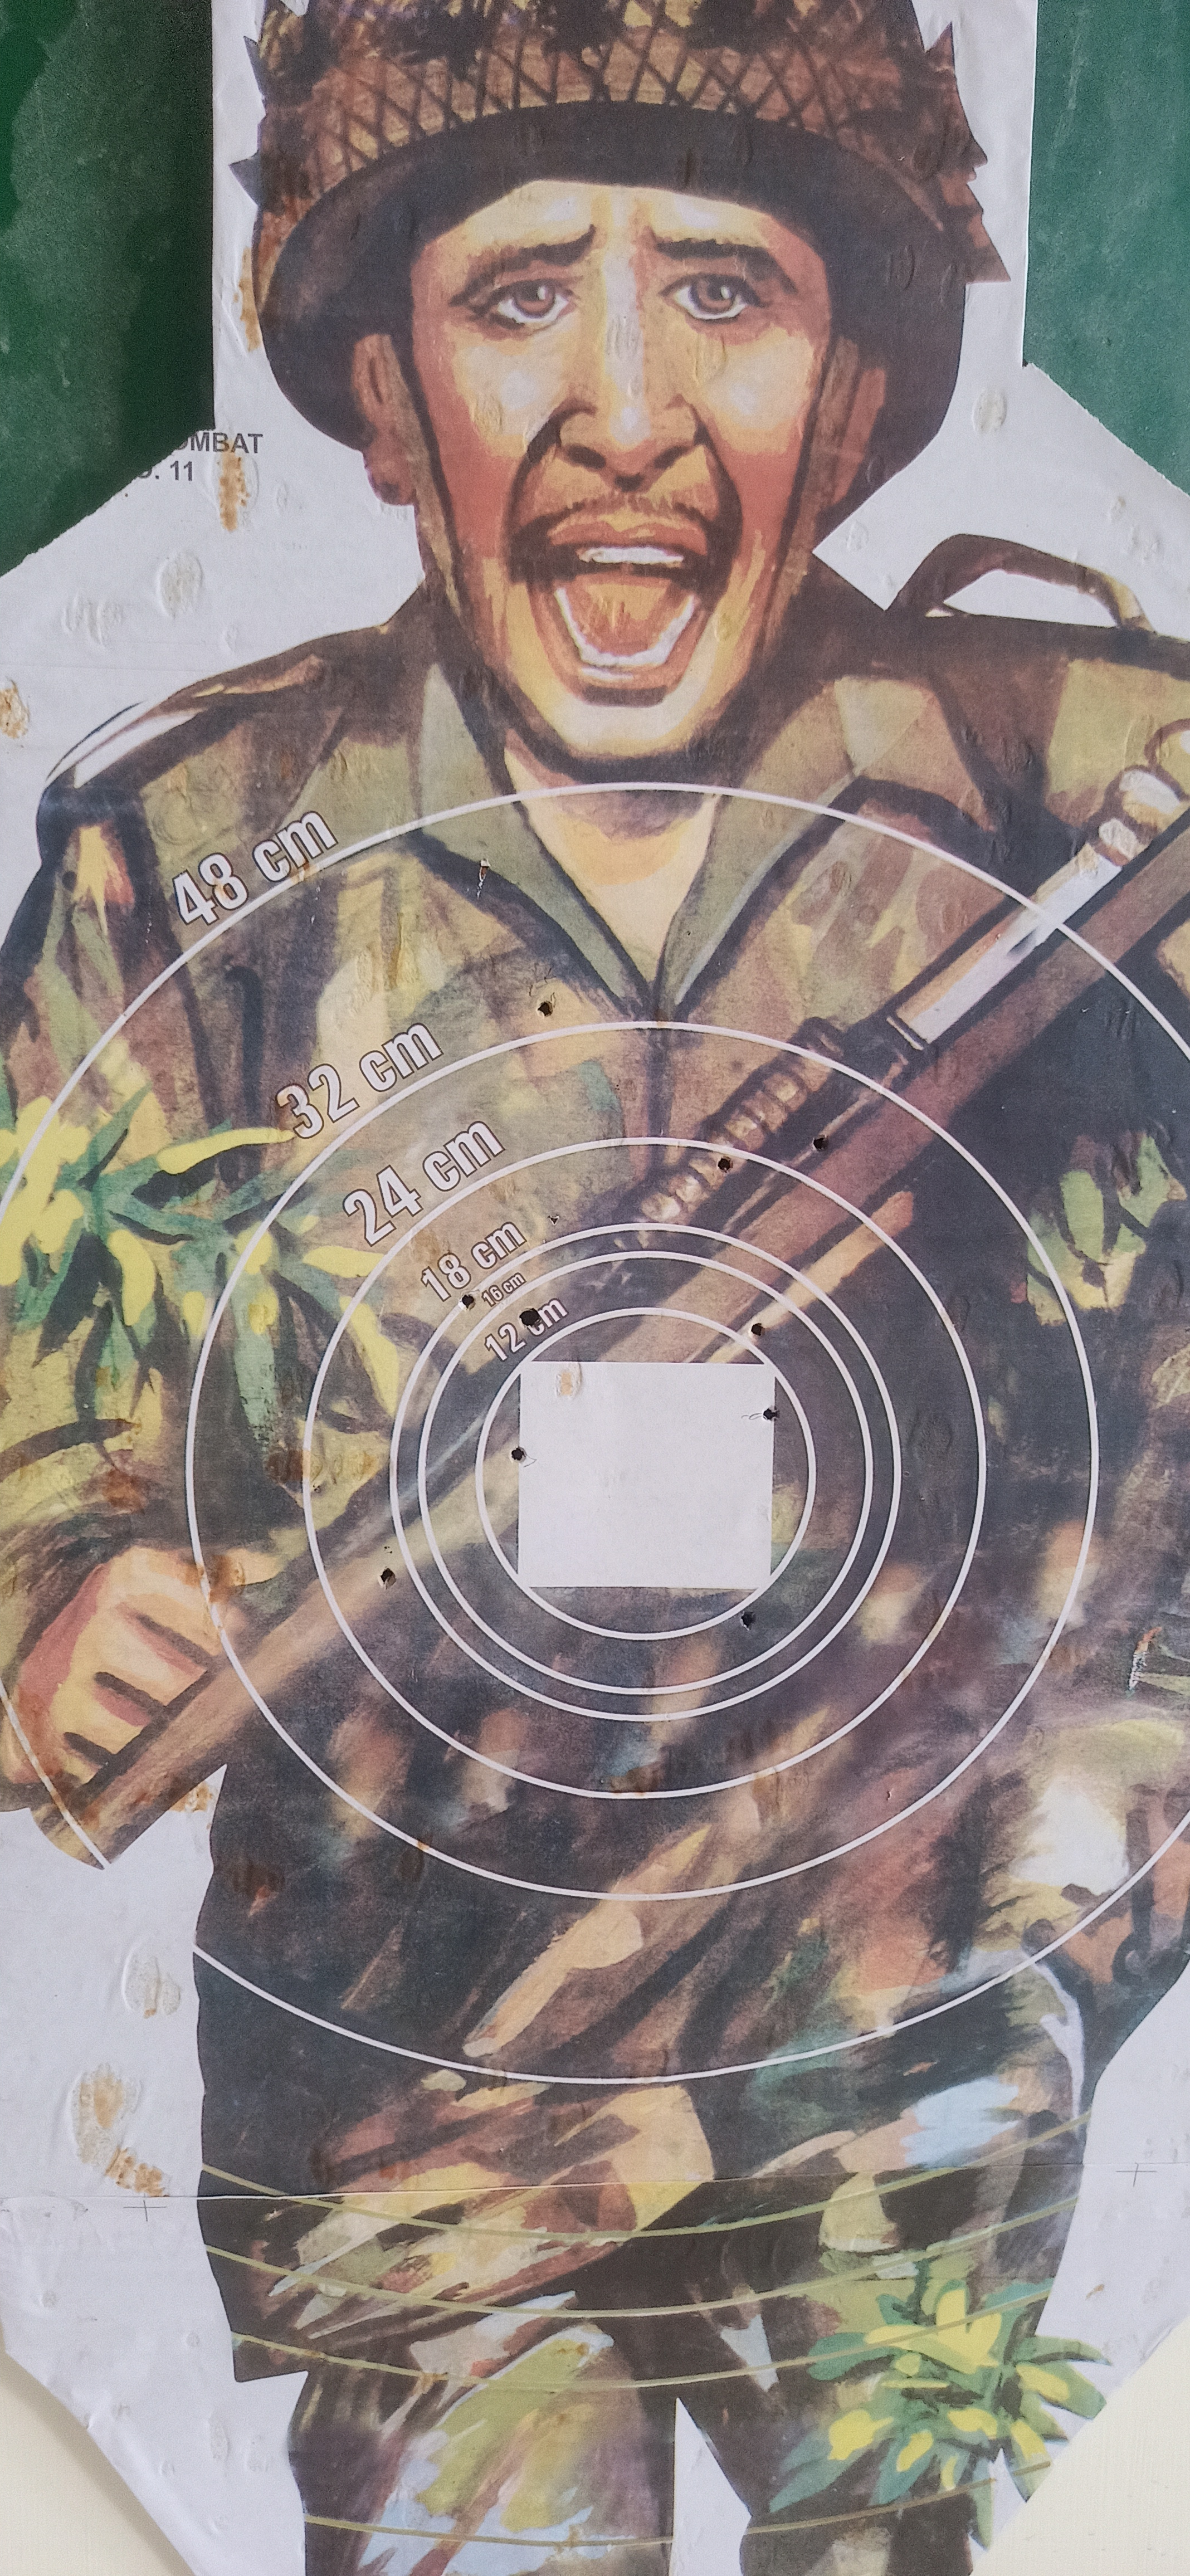bullet hit: (375, 1556, 403, 1597), (705, 1152, 743, 1180), (513, 1304, 547, 1334), (807, 1129, 837, 1155), (531, 994, 562, 1019), (743, 1316, 774, 1339), (505, 1437, 528, 1469), (735, 1605, 761, 1631), (758, 1398, 782, 1426), (460, 1288, 482, 1313)
white box: (518, 1357, 776, 1589)
